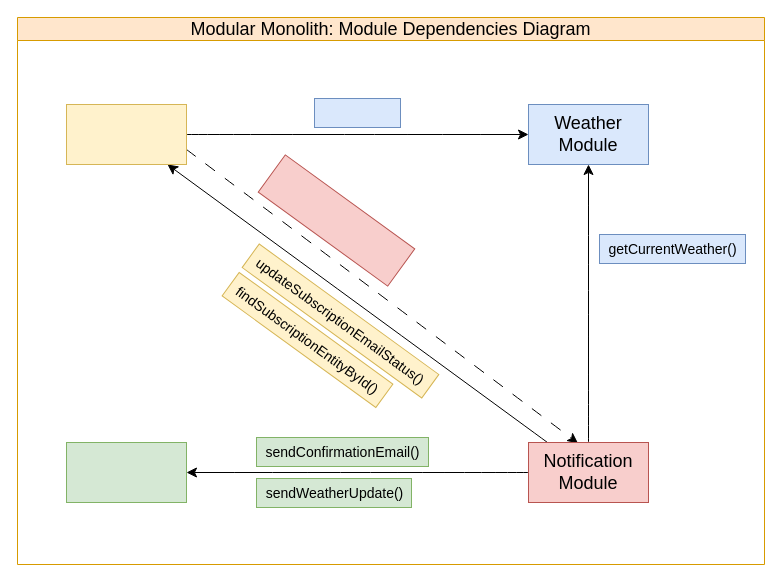
Some shapes in this 782 by 582 pixel diagram are drawn without their labels. The shapes that lost their labels are listed below. From the top down, each one's centre as x and y in pixels, then its label:
At point (357, 113): "cityExists()".
At point (126, 134): "Subscription Module".
At point (336, 220): "SubscriptionCreated SubscriptionConfirmed".
At point (126, 472): "Email Module".
